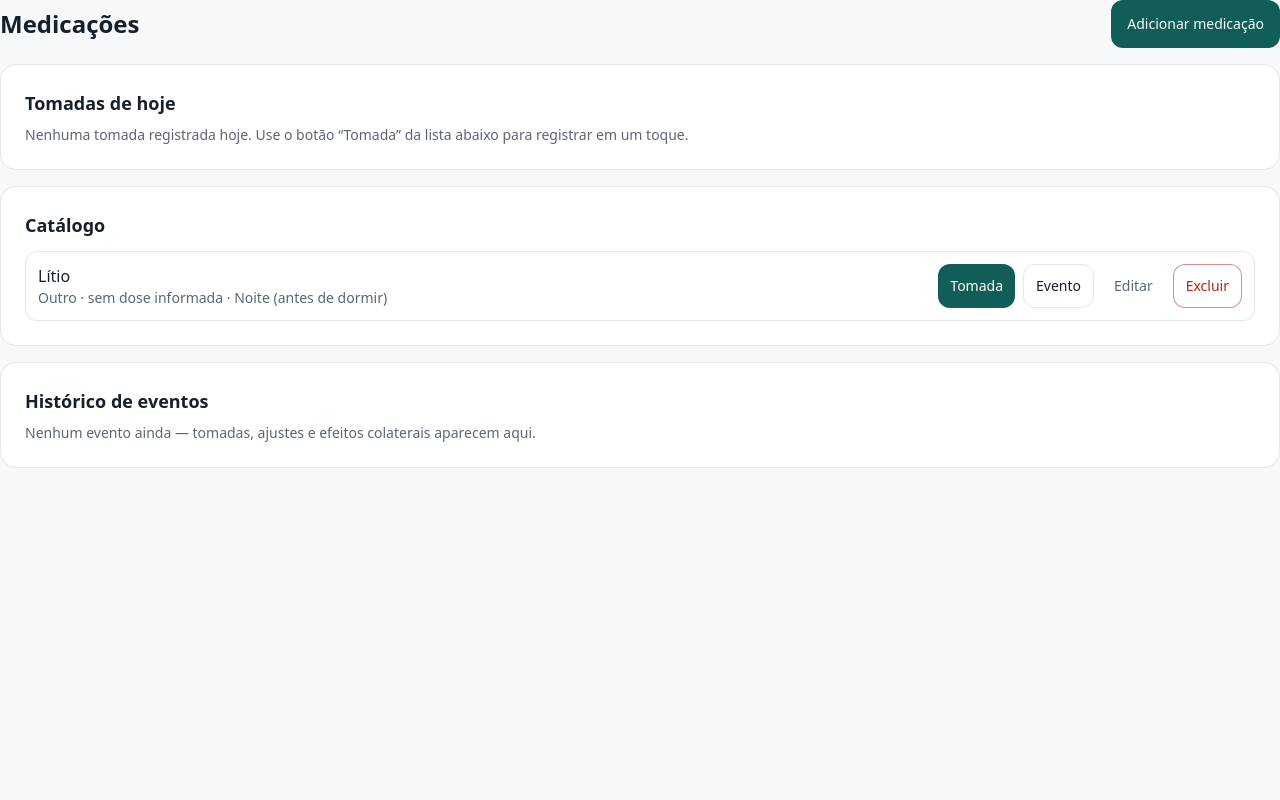
Test case: MedicationsPage › registra evento de ajuste de dose pelo formulário
Step 1. Click the button "Evento" → click(1058, 286), box [1023,264,1094,308]
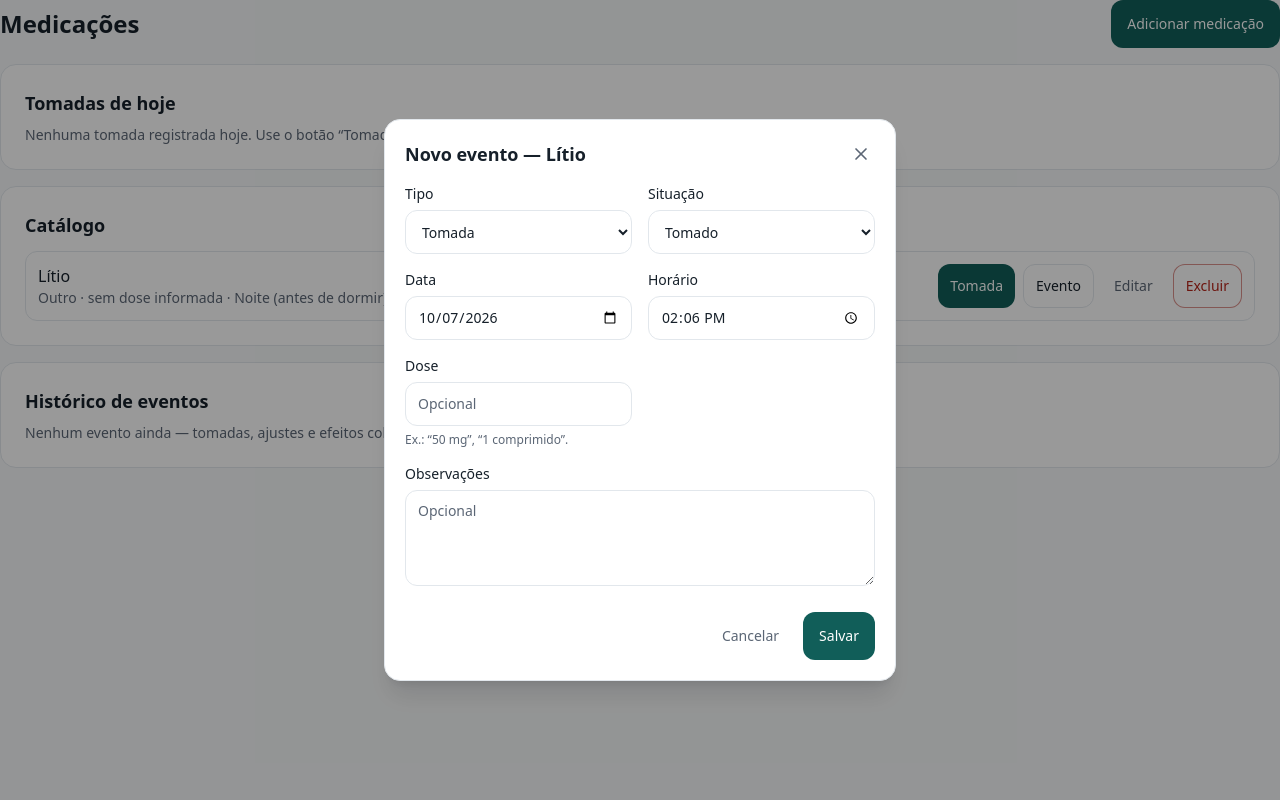
Step 2. Select "Ajuste de dose" in the dropdown labelled "Tipo" → (518, 232), box [405,210,632,254]
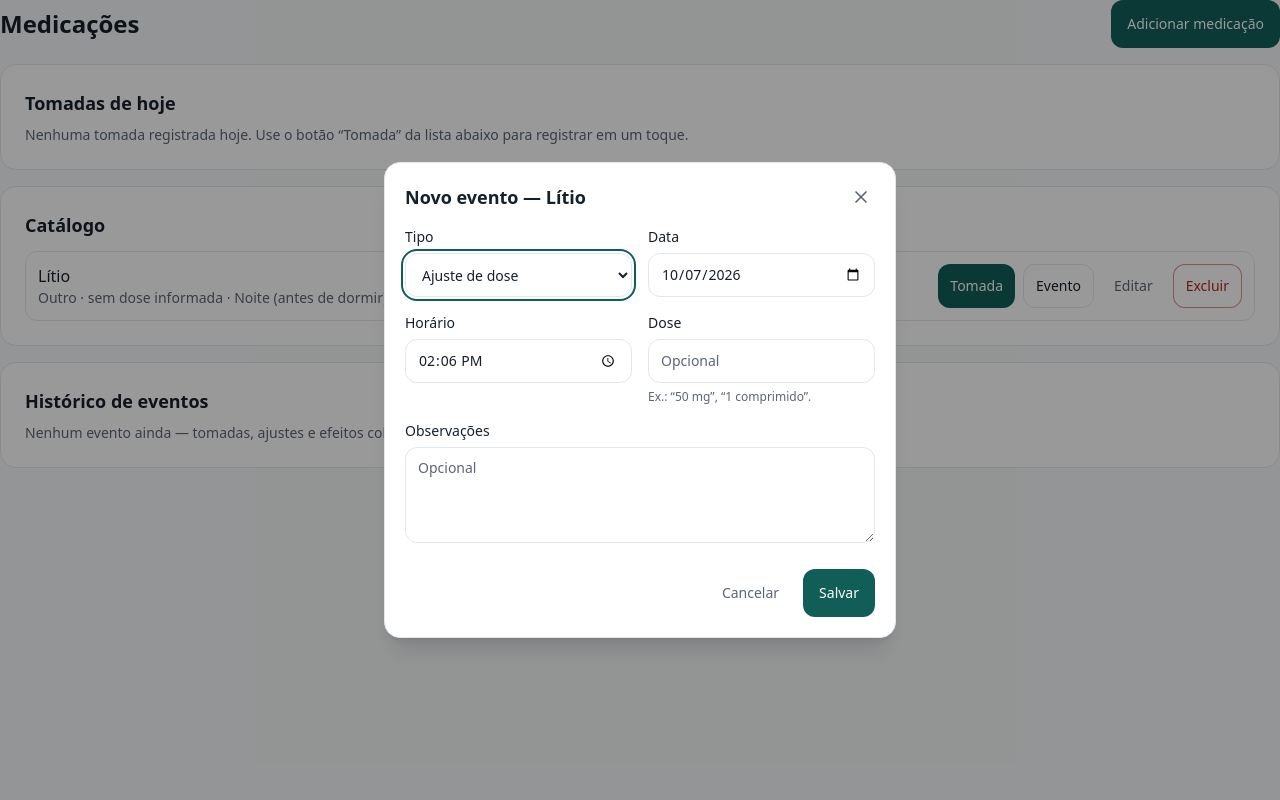
Step 3. Type "450 mg" into the field labelled "Dose" → (762, 361), box [648,339,875,383]
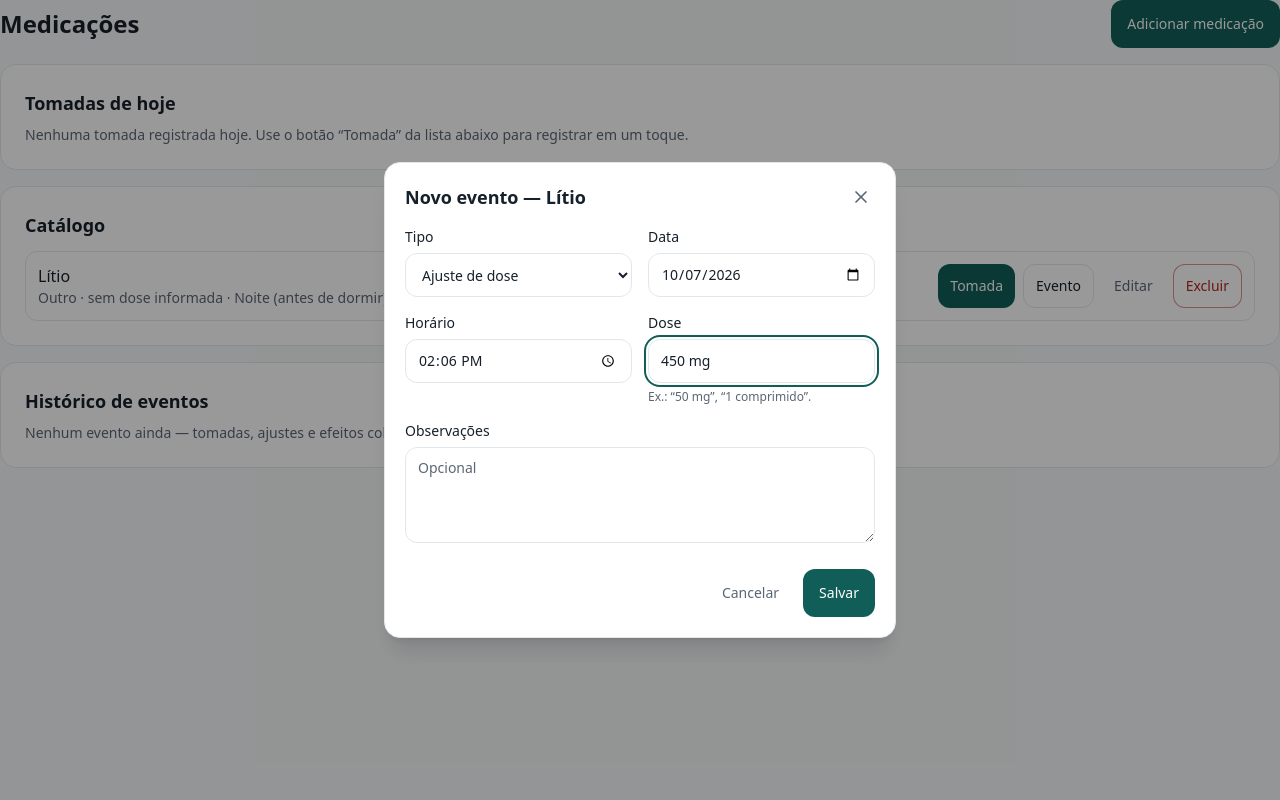
Step 4. Type "subi a dose conforme orientação" into the text box labelled "Observações" → (640, 495), box [405,447,875,543]
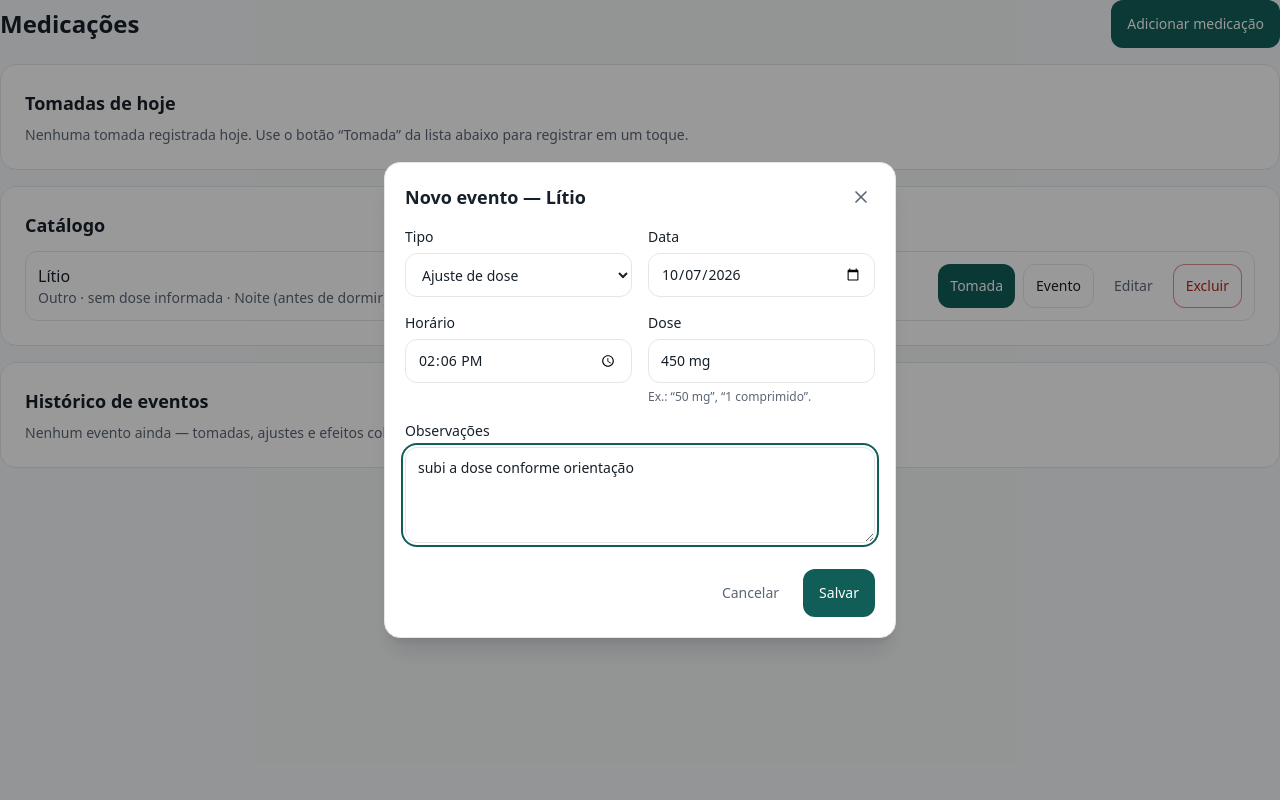
Step 5. Click the button "Salvar" → click(839, 593), box [803,569,875,617]
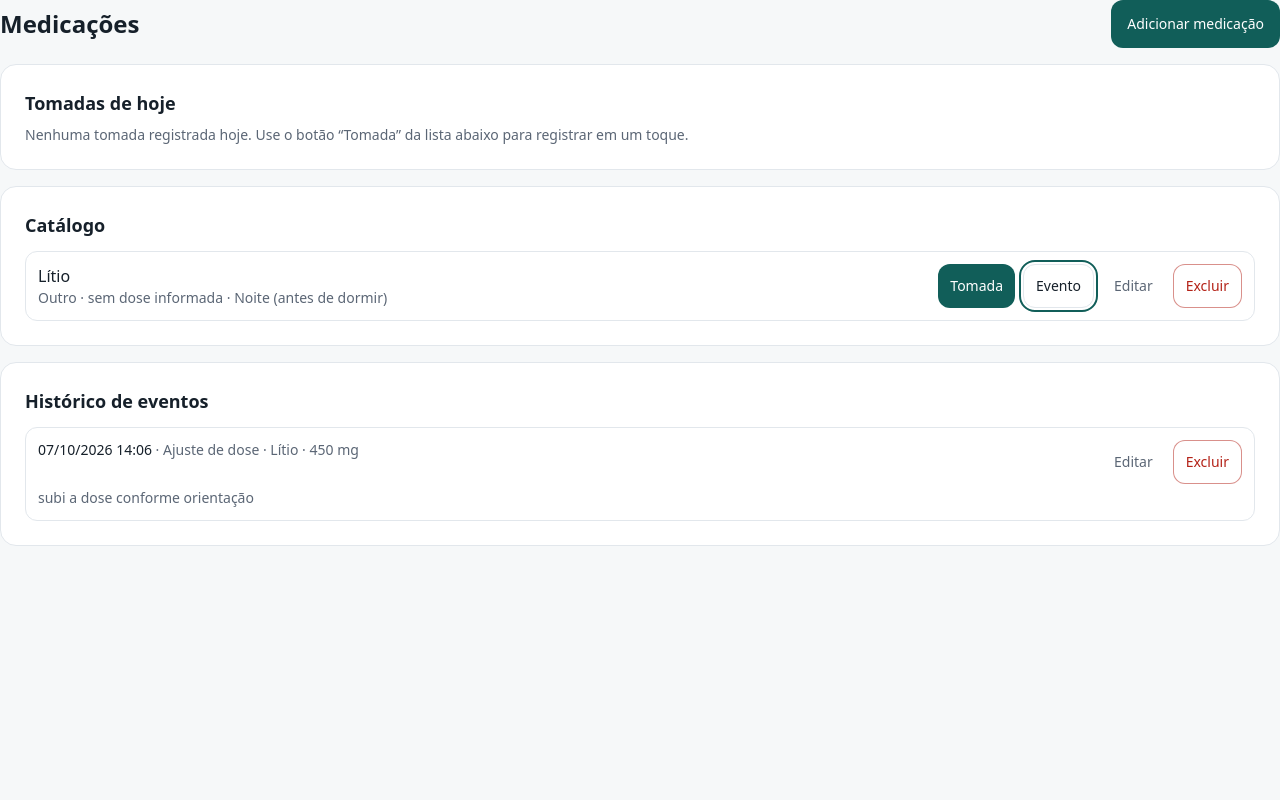
Now the dialog is gone
